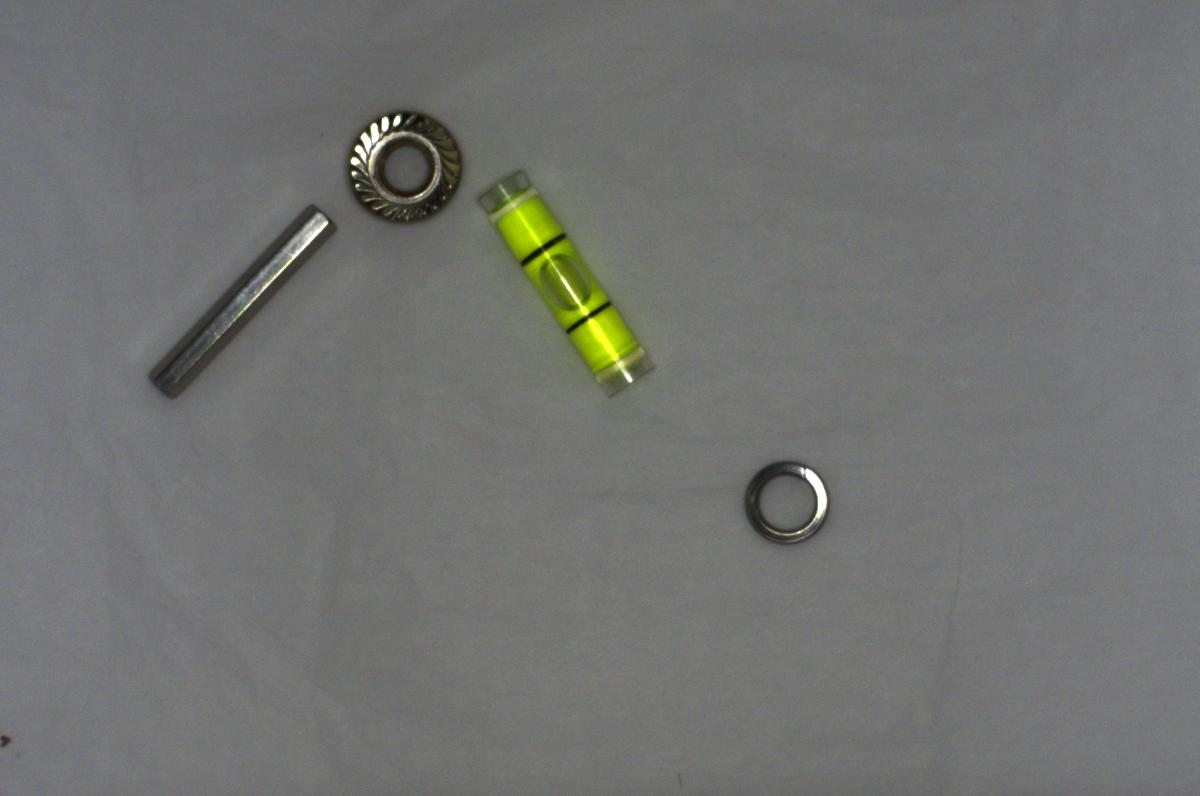Double hexagonal column: (132, 194, 347, 409)
Flange nut: (347, 110, 473, 227)
Horizontal bubble: (466, 162, 654, 396)
Spring washer: (733, 453, 835, 550)
